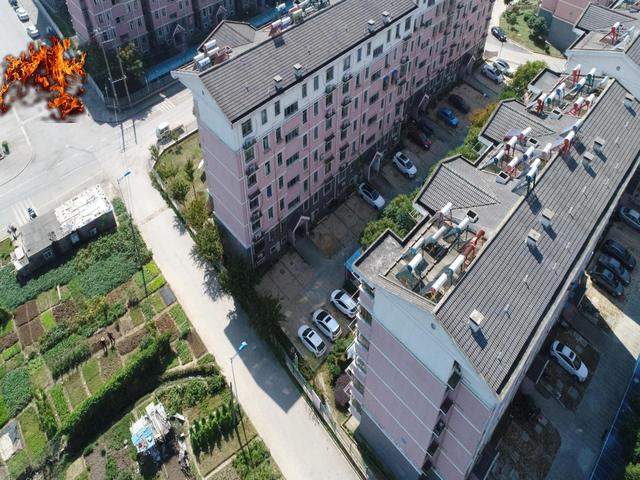fire: (1, 36, 86, 121)
